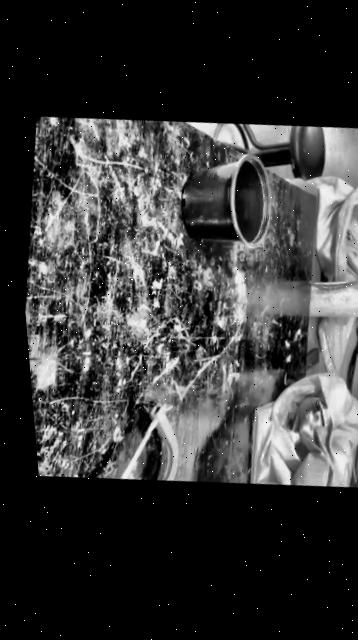pot: (171, 137, 280, 254)
